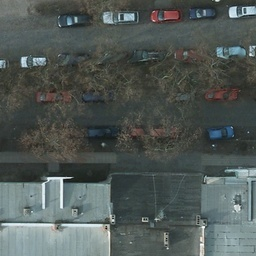car: (34, 88, 72, 105), (99, 9, 138, 25), (58, 12, 90, 28), (205, 124, 235, 141), (148, 126, 179, 142), (173, 48, 208, 62), (22, 52, 49, 70), (227, 4, 255, 19), (216, 45, 244, 60), (149, 9, 183, 21), (81, 87, 110, 101), (207, 88, 236, 102), (86, 122, 117, 135), (189, 6, 217, 20), (1, 58, 8, 70)
